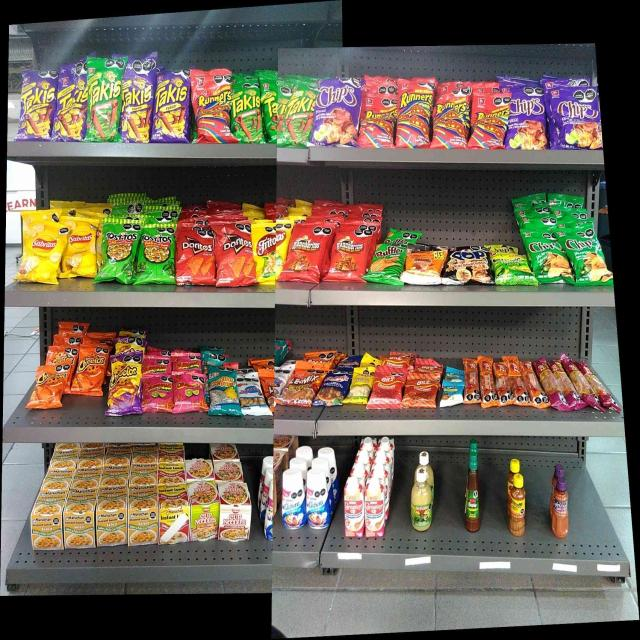bitzAlmendras: (442, 381, 462, 409)
bitzEnchilado90: (405, 372, 440, 409), (374, 366, 404, 409)
bitzEnchilado95: (506, 356, 524, 407), (464, 358, 478, 404), (526, 360, 538, 408), (480, 357, 491, 408), (493, 363, 504, 406)
bitzHabanero: (590, 370, 616, 409), (555, 361, 573, 409), (574, 357, 588, 411), (540, 359, 554, 398)
bokadosCacahuates: (322, 370, 349, 406)
botaneraChilito: (510, 472, 527, 536)
cheetosFlaminHot: (109, 356, 141, 414)
cheetosOriginal: (73, 346, 107, 394), (34, 366, 68, 409)
chipsFuego: (549, 87, 602, 151), (315, 80, 358, 148), (507, 88, 545, 150)
chipsJalapeno: (566, 230, 612, 285), (530, 235, 563, 284)
chipsPapatinas: (491, 252, 527, 285)
churrumais: (142, 375, 173, 412), (174, 376, 205, 413), (173, 354, 202, 373), (144, 354, 171, 374)
delPrimoSalsa: (411, 467, 433, 531)
doritosNacho: (213, 221, 253, 286), (177, 223, 212, 286)
fritosLimon: (255, 223, 287, 285)
hotNutsOriginal: (407, 245, 443, 286)
leoCacahuates: (239, 376, 265, 416)
leoMix: (288, 366, 320, 405)
maruchanPollo: (64, 489, 97, 549), (32, 491, 63, 549), (128, 486, 157, 546), (98, 487, 127, 546)
maruchanRes: (160, 485, 187, 545)
nestleCarnation: (345, 478, 365, 537), (366, 478, 386, 537)
nestleLechera: (308, 468, 332, 530), (282, 468, 306, 529)
nissinCamaron: (188, 483, 218, 540)
nissinRes: (220, 482, 250, 541)
popKarameladas: (445, 248, 489, 284)
rancheritos: (289, 225, 325, 282), (328, 230, 367, 281)
rufflesQueso: (369, 246, 404, 284)
runners: (190, 70, 228, 144), (432, 84, 469, 148), (398, 81, 430, 149), (472, 91, 504, 149), (360, 95, 395, 148)
sabritasOriginal: (22, 222, 59, 283), (62, 217, 96, 277)
salsaBufalo: (465, 450, 482, 532)
semillasCalabaza: (350, 368, 373, 404)
semillasGirasol: (208, 361, 235, 416)
tajinDulce: (551, 477, 571, 538)
takisFuego: (53, 66, 87, 141), (123, 59, 153, 140), (156, 72, 188, 142), (18, 72, 50, 141)
takisOriginal: (89, 57, 120, 141), (262, 72, 292, 144), (231, 88, 259, 144), (293, 78, 313, 145)
tostitos: (136, 223, 176, 285), (102, 220, 134, 285)
